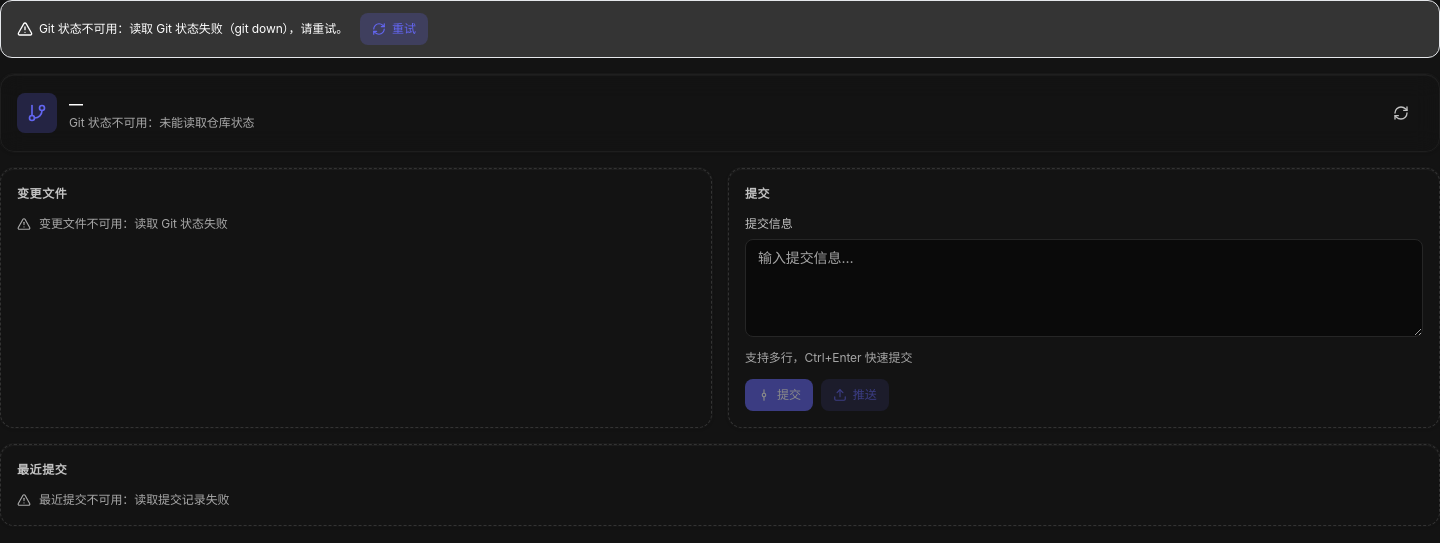
Scenario: Git page — usage scenarios › retries the read and clears the alert when the retry succeeds
expect the message "Git 状态不可用：读取 Git 状态失败（git down），请重试。" is shown: met, box [17,20,348,38]
Click the button "重试" at (394, 29), box [360,13,428,45]
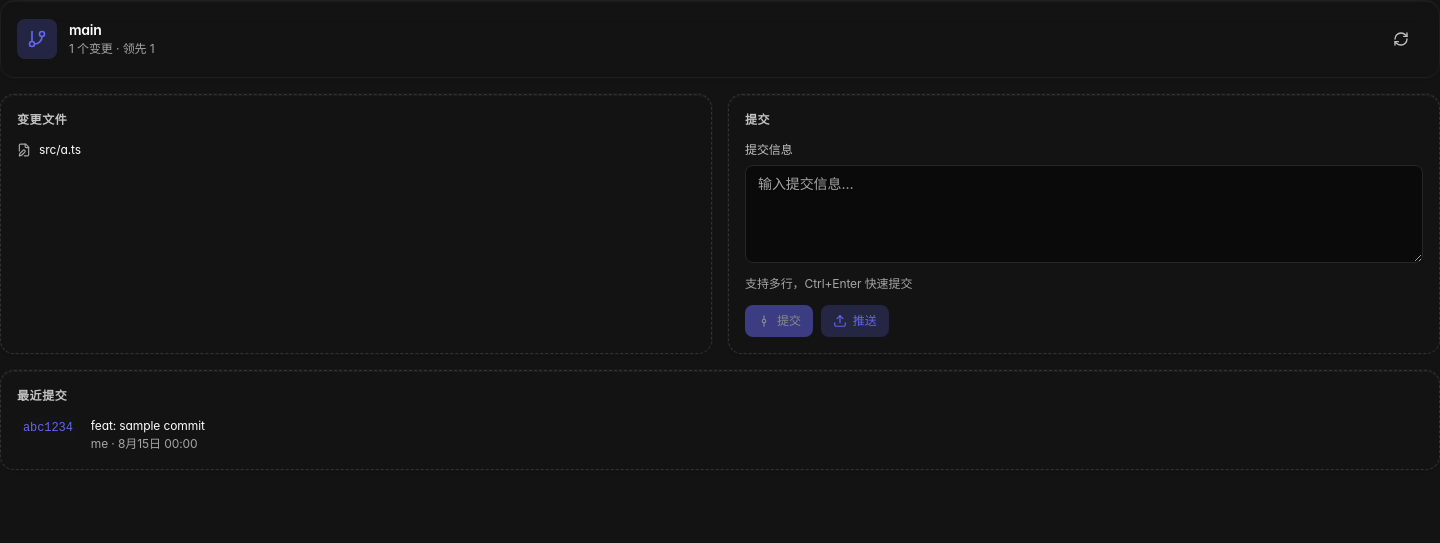
expect the heading "main" is shown: met, box [69,21,102,38]
expect the text "src/a.ts" is shown: met, box [39,141,81,159]
expect the message "Git 状态不可用：读取 Git 状态失败（git down），请重试。" is gone: met
